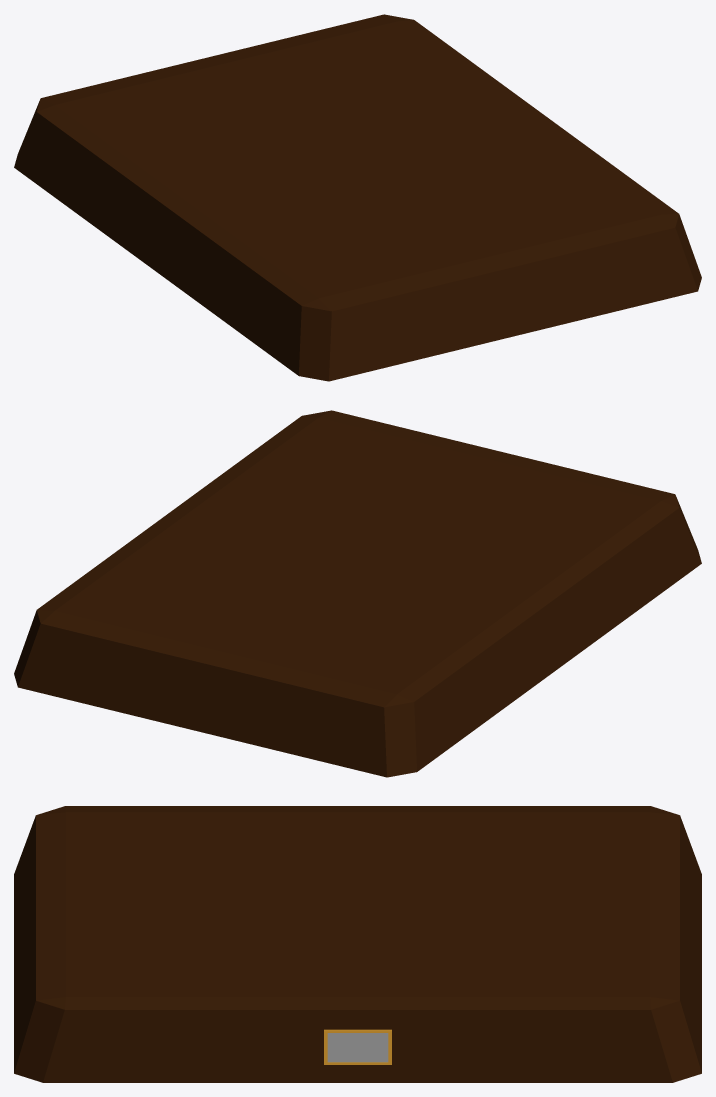
File: douzou_dai.fbx
3 renders of one model, top to bottom at view 1: azimuth 30°, elevation 25°; view 2: azimuth 150°, elevation 25°; view 3: azimuth 270°, elevation 25°, orthographic. The views are drawn at different scales.
Parts seen in each view (by area): view 1: Cube; view 2: Cube; view 3: Cube, plate.
Part boxes in pixels (x1=…): Cube: x1=14, y1=14, x2=701, y2=381; Cube: x1=14, y1=410, x2=701, y2=777; Cube: x1=14, y1=806, x2=701, y2=1082; plate: x1=324, y1=1029, x2=391, y2=1064.
Bounding box in the file's own units: 5.4 × 0.8353 × 7.17.
